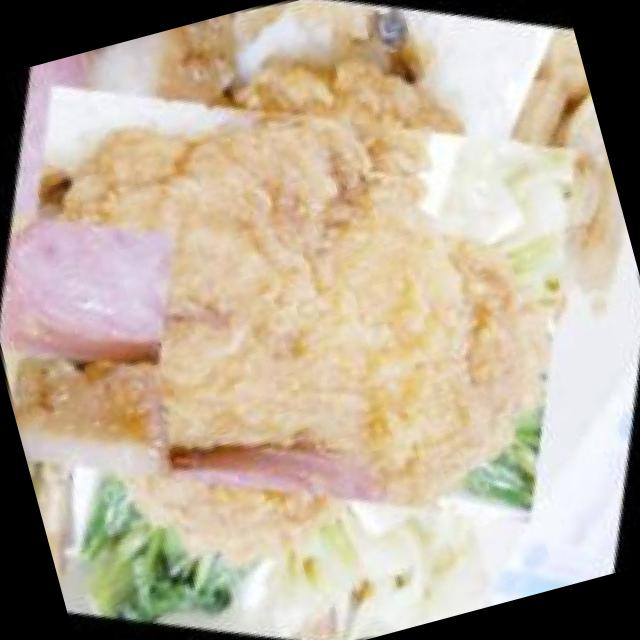chinese_sausage: (0, 159, 203, 417)
fried_chicken: (0, 0, 640, 640)
